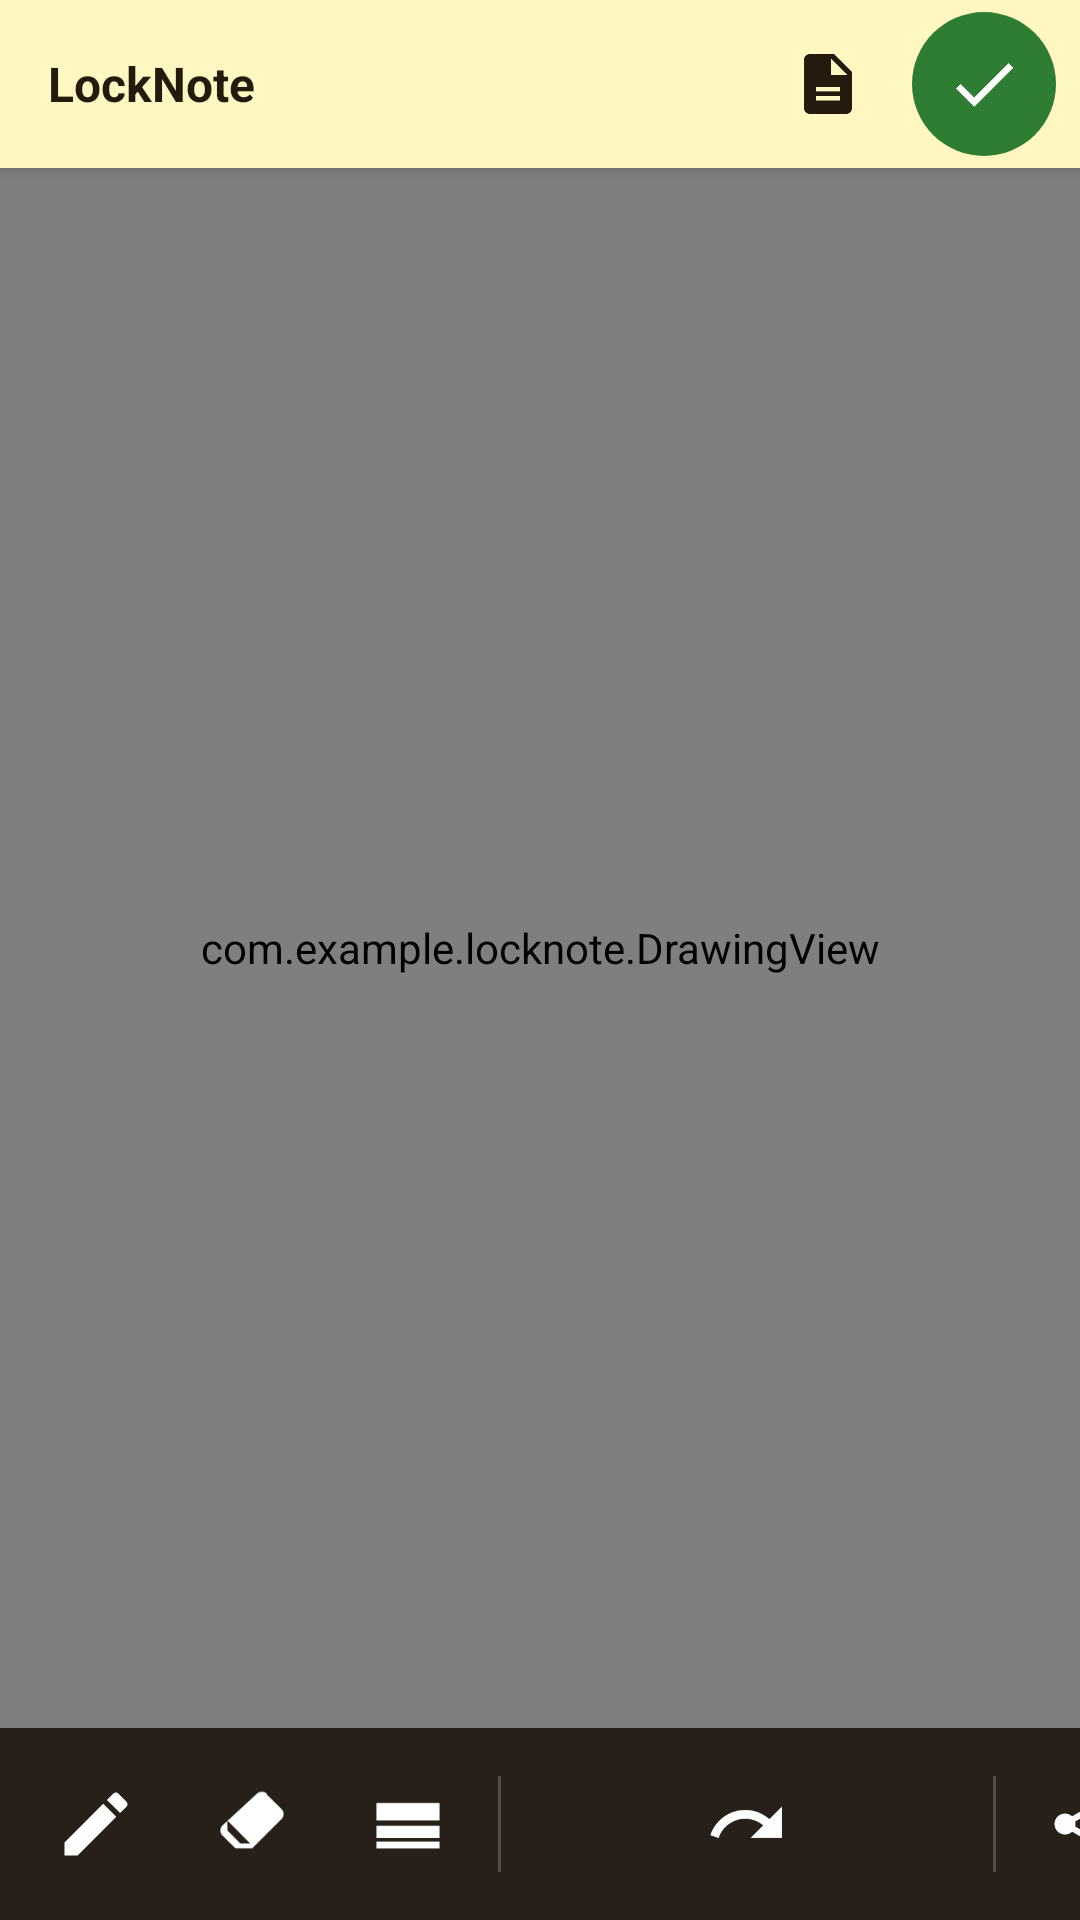

Screen size 1080 × 1920. Icon name, then its center in pixels as [x,y]:
Αποθήκευση PDF: [828,84]
Γόμα: [252,1820]
Επανάληψη: [746,1822]
Πάχος: [408,1825]
Στυλό: [96,1824]
Τέλος: [984,84]
